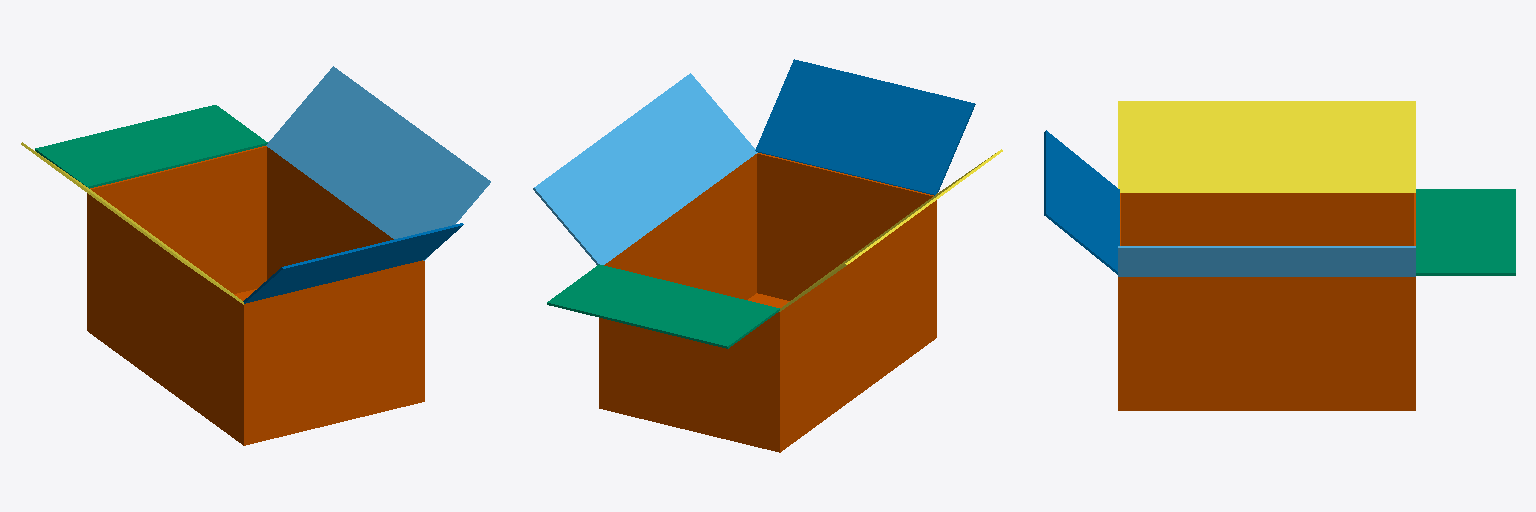
The robot description file, URDF, robot "partnet_07dd2e93-9195-4a01-b13b-2a964ff164c4-1":
<?xml version="1.0" ?>
<robot name="partnet_07dd2e93-9195-4a01-b13b-2a964ff164c4-1">
	<link name="base"/>
	<link name="link_0">
		<visual name="rotation_lid-1">
			<origin xyz="-0.12207366180004886 -0.19517067974166719 0.3771559999999998"/>
			<geometry>
				<mesh filename="textured_objs/original-5.obj"/>
			</geometry>
		</visual>
		<collision>
			<origin xyz="-0.12207366180004886 -0.19517067974166719 0.3771559999999998"/>
			<geometry>
				<mesh filename="textured_objs/original-5.obj"/>
			</geometry>
		</collision>
	</link>
	<joint name="joint_0" type="revolute">
		<origin xyz="0.12207366180004886 0.19517067974166719 -0.3771559999999998"/>
		<axis xyz="-0.7454750658846611 0 0"/>
		<child link="link_0"/>
		<parent link="link_4"/>
		<limit lower="-2.356194490192345" upper="2.356194490192345"/>
	</joint>
	<link name="link_1">
		<visual name="rotation_lid-2">
			<origin xyz="0.5753910000000002 -0.19932899999999998 -0.05890411962910913"/>
			<geometry>
				<mesh filename="textured_objs/original-7.obj"/>
			</geometry>
		</visual>
		<collision>
			<origin xyz="0.5753910000000002 -0.19932899999999998 -0.05890411962910913"/>
			<geometry>
				<mesh filename="textured_objs/original-7.obj"/>
			</geometry>
		</collision>
	</link>
	<joint name="joint_1" type="revolute">
		<origin xyz="-0.5753910000000002 0.19932899999999998 0.05890411962910913"/>
		<axis xyz="0 0 0.9999999999999999"/>
		<child link="link_1"/>
		<parent link="link_4"/>
		<limit lower="-3.141592653589793" upper="1.5707963267948966"/>
	</joint>
	<link name="link_2">
		<visual name="rotation_lid-3">
			<origin xyz="0.2721859931767474 -0.19512944498462215 -0.373907"/>
			<geometry>
				<mesh filename="textured_objs/original-4.obj"/>
			</geometry>
		</visual>
		<collision>
			<origin xyz="0.2721859931767474 -0.19512944498462215 -0.373907"/>
			<geometry>
				<mesh filename="textured_objs/original-4.obj"/>
			</geometry>
		</collision>
	</link>
	<joint name="joint_2" type="revolute">
		<origin xyz="-0.2721859931767474 0.19512944498462215 0.373907"/>
		<axis xyz="0.745475065884661 0 0"/>
		<child link="link_2"/>
		<parent link="link_4"/>
		<limit lower="-2.3750440461138838" upper="2.293362637120549"/>
	</joint>
	<link name="link_3">
		<visual name="rotation_lid-4">
			<origin xyz="-0.5512030000000001 -0.19932900000000014 0.007999790402891449"/>
			<geometry>
				<mesh filename="textured_objs/original-6.obj"/>
			</geometry>
		</visual>
		<collision>
			<origin xyz="-0.5512030000000001 -0.19932900000000014 0.007999790402891449"/>
			<geometry>
				<mesh filename="textured_objs/original-6.obj"/>
			</geometry>
		</collision>
	</link>
	<joint name="joint_3" type="revolute">
		<origin xyz="0.5512030000000001 0.19932900000000014 -0.007999790402891449"/>
		<axis xyz="0 0 -0.7454750658846612"/>
		<child link="link_3"/>
		<parent link="link_4"/>
		<limit lower="-2.387610416728243" upper="2.2996458224277285"/>
	</joint>
	<link name="link_4">
		<visual name="base_body-5">
			<origin xyz="0 0 0"/>
			<geometry>
				<mesh filename="textured_objs/original-3.obj"/>
			</geometry>
		</visual>
		<visual name="base_body-5">
			<origin xyz="0 0 0"/>
			<geometry>
				<mesh filename="textured_objs/original-2.obj"/>
			</geometry>
		</visual>
		<collision>
			<origin xyz="0 0 0"/>
			<geometry>
				<mesh filename="textured_objs/original-3.obj"/>
			</geometry>
		</collision>
		<collision>
			<origin xyz="0 0 0"/>
			<geometry>
				<mesh filename="textured_objs/original-2.obj"/>
			</geometry>
		</collision>
	</link>
	<joint name="joint_4" type="fixed">
		<origin rpy="1.570796326794897 0 -1.570796326794897" xyz="0 0 0"/>
		<child link="link_4"/>
		<parent link="base"/>
	</joint>
</robot>

--- Render facts (derived) ---
Views: 3 orthographic renders of the robot side by side, from view 1: azimuth 30°, elevation 25°; view 2: azimuth 150°, elevation 25°; view 3: azimuth 270°, elevation 25°.
Robot: partnet_07dd2e93-9195-4a01-b13b-2a964ff164c4-1 — 6 links, 5 joints (4 revolute, 1 fixed); root link base; default pose: all joints at 0.
Links seen in each view (by area): view 1: link_4, link_0, link_1, link_3, link_2; view 2: link_4, link_0, link_3, link_1, link_2; view 3: link_4, link_2, link_0, link_1, link_3.
Link boxes in pixels (box(x1,y1,x2,y2)): link_4: box(87, 146, 424, 445); link_0: box(266, 66, 490, 260); link_1: box(35, 105, 267, 188); link_3: box(243, 223, 463, 303); link_2: box(21, 142, 243, 304); link_4: box(599, 153, 936, 452); link_0: box(533, 73, 757, 264); link_3: box(755, 59, 975, 195); link_1: box(547, 264, 779, 348); link_2: box(779, 149, 1002, 311); link_4: box(1118, 193, 1415, 410); link_2: box(1118, 101, 1415, 192); link_0: box(1118, 246, 1415, 276); link_1: box(1416, 189, 1515, 275); link_3: box(1044, 130, 1119, 274).
Size in the robot's own frame: 1.3 by 1.78 by 0.8206 metres.
Meshes: 6 distinct files referenced, 6 mesh visuals loaded (6 OBJ).
